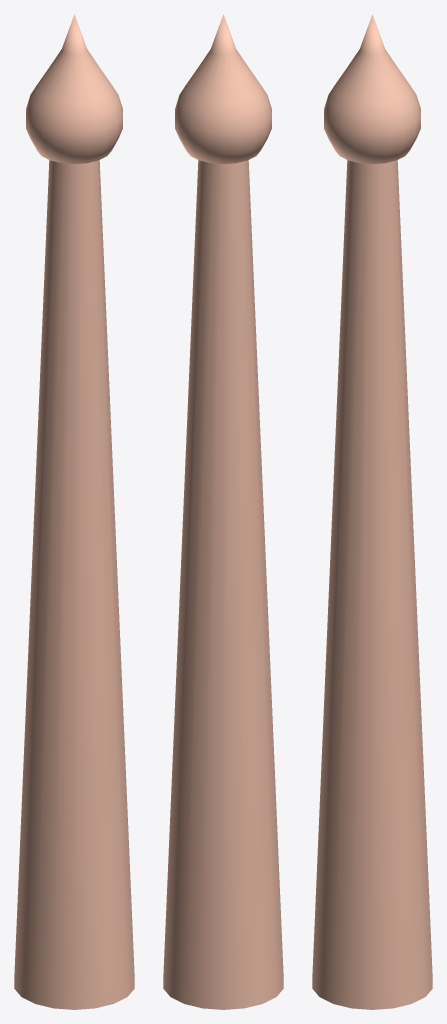
File: Castillo_PilarC.fbx
3 views of the same model, side by side, from view 1: azimuth 30°, elevation 25°; view 2: azimuth 150°, elevation 25°; view 3: azimuth 330°, elevation 25° (orthographic).
Visible parts, largest first — view 1: Castillo_PilarC; view 2: Castillo_PilarC; view 3: Castillo_PilarC.
Part boxes in pixels (x1,y1,x2,y2): Castillo_PilarC: (14, 14, 134, 1009); Castillo_PilarC: (163, 14, 283, 1009); Castillo_PilarC: (312, 14, 432, 1009).
Size of the model in its own units: 7548 by 65997 by 7433.
